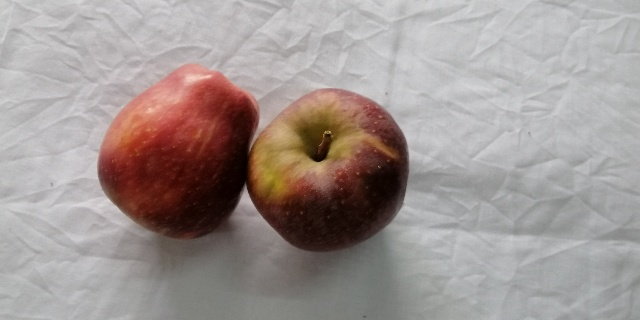apple_kashmir: (248, 87, 416, 253), (98, 65, 258, 234)
